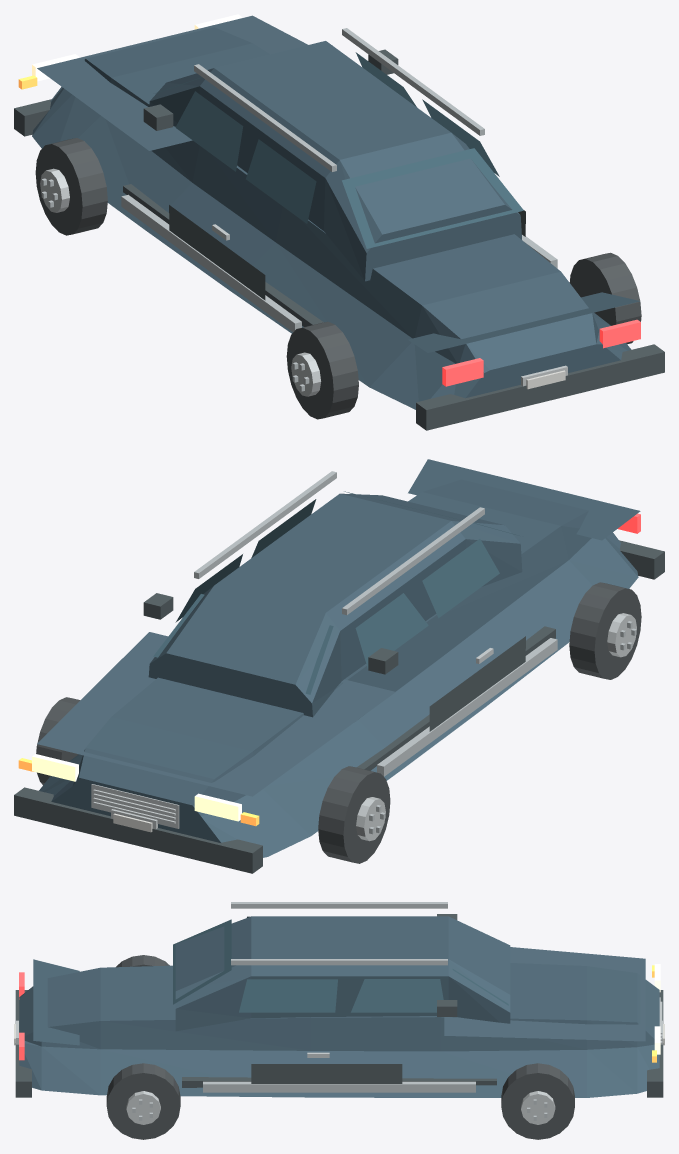
File: VehicleModern_Luxury.glb
3 views of the same model, one above another, from view 1: azimuth 30°, elevation 25°; view 2: azimuth 150°, elevation 25°; view 3: azimuth 270°, elevation 25° (orthographic). The views are drawn at different scales.
Visible parts, largest first — view 1: BodyPaint, CabinPaint, Hood, RearBumper, StaticWheelTire_-1_Front, StaticWheelTire_-1_Rear, RearWindow, StaticWheelTire_1_Rear, WindowGlassRear-1, WindowGlassSide-1, SideTrim-1, DoorSeam-1 (+11 smaller); view 2: BodyPaint, CabinPaint, Hood, FrontBumper, StaticWheelTire_-1_Rear, StaticWheelTire_-1_Front, Trunk, WindowGlassRear-1, SideTrim-1, WindowGlassSide-1, DoorSeam-1, RoofRail-1 (+14 smaller); view 3: BodyPaint, CabinPaint, Hood, StaticWheelTire_1_Rear, StaticWheelTire_1_Front, WindowGlassRear1, DoorSeam1, SideTrim1, WindowGlassSide1, Trunk, RoofRail-1, RoofRail1 (+7 smaller).
Boxes of the visible parts, x1=… form: BodyPaint: x1=32, y1=27, x2=631, y2=409; CabinPaint: x1=149, y1=41, x2=521, y2=281; Hood: x1=37, y1=15, x2=307, y2=150; RearBumper: x1=416, y1=344, x2=664, y2=430; StaticWheelTire_-1_Front: x1=35, y1=138, x2=107, y2=235; StaticWheelTire_-1_Rear: x1=286, y1=321, x2=358, y2=419; RearWindow: x1=342, y1=148, x2=523, y2=248; StaticWheelTire_1_Rear: x1=569, y1=252, x2=641, y2=344; WindowGlassRear-1: x1=246, y1=139, x2=316, y2=223; WindowGlassSide-1: x1=175, y1=91, x2=243, y2=171; SideTrim-1: x1=121, y1=194, x2=301, y2=332; DoorSeam-1: x1=169, y1=205, x2=265, y2=300; BodyPaint: x1=39, y1=479, x2=638, y2=857; CabinPaint: x1=148, y1=493, x2=522, y2=717; Hood: x1=37, y1=632, x2=395, y2=796; FrontBumper: x1=14, y1=787, x2=262, y2=873; StaticWheelTire_-1_Rear: x1=569, y1=582, x2=641, y2=679; StaticWheelTire_-1_Front: x1=318, y1=766, x2=390, y2=863; Trunk: x1=408, y1=459, x2=640, y2=540; WindowGlassRear-1: x1=422, y1=539, x2=499, y2=618; SideTrim-1: x1=377, y1=638, x2=557, y2=776; WindowGlassSide-1: x1=355, y1=593, x2=428, y2=669; DoorSeam-1: x1=429, y1=636, x2=525, y2=731; RoofRail-1: x1=342, y1=507, x2=484, y2=615; BodyPaint: x1=19, y1=963, x2=659, y2=1097; CabinPaint: x1=175, y1=916, x2=510, y2=1031; Hood: x1=444, y1=947, x2=645, y2=1041; StaticWheelTire_1_Rear: x1=106, y1=1063, x2=180, y2=1139; StaticWheelTire_1_Front: x1=501, y1=1063, x2=574, y2=1139; WindowGlassRear1: x1=239, y1=979, x2=337, y2=1012; DoorSeam1: x1=251, y1=1064, x2=402, y2=1083; SideTrim1: x1=203, y1=1081, x2=475, y2=1092; WindowGlassSide1: x1=351, y1=979, x2=443, y2=1012; Trunk: x1=33, y1=959, x2=79, y2=1045; RoofRail-1: x1=231, y1=902, x2=447, y2=908; RoofRail1: x1=231, y1=959, x2=447, y2=965.
Size of the model in its own units: 2.36 by 1.29 by 5.11.
